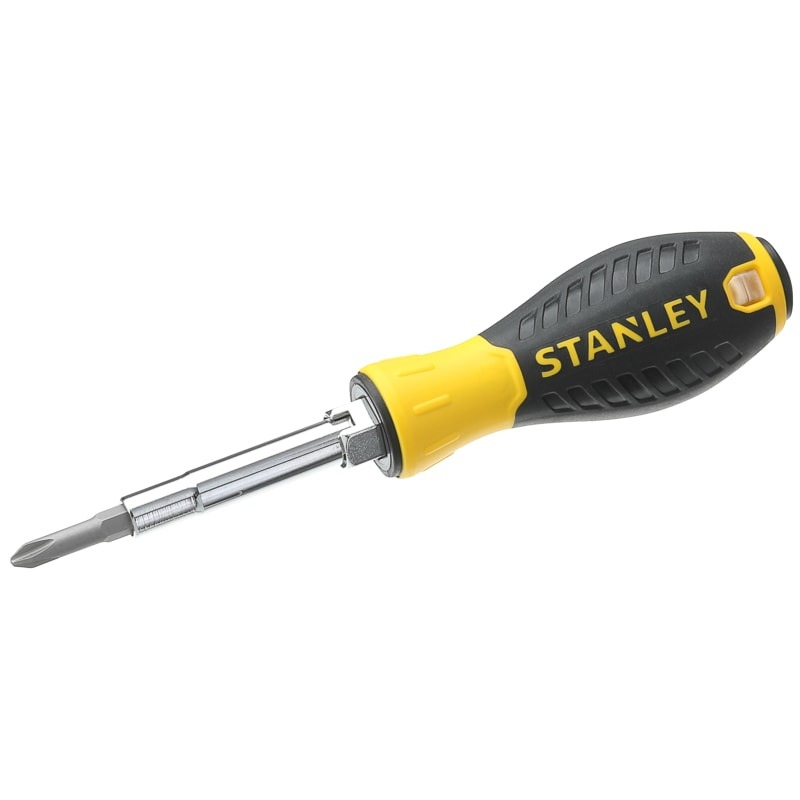screwdriver: (10, 215, 788, 565)
